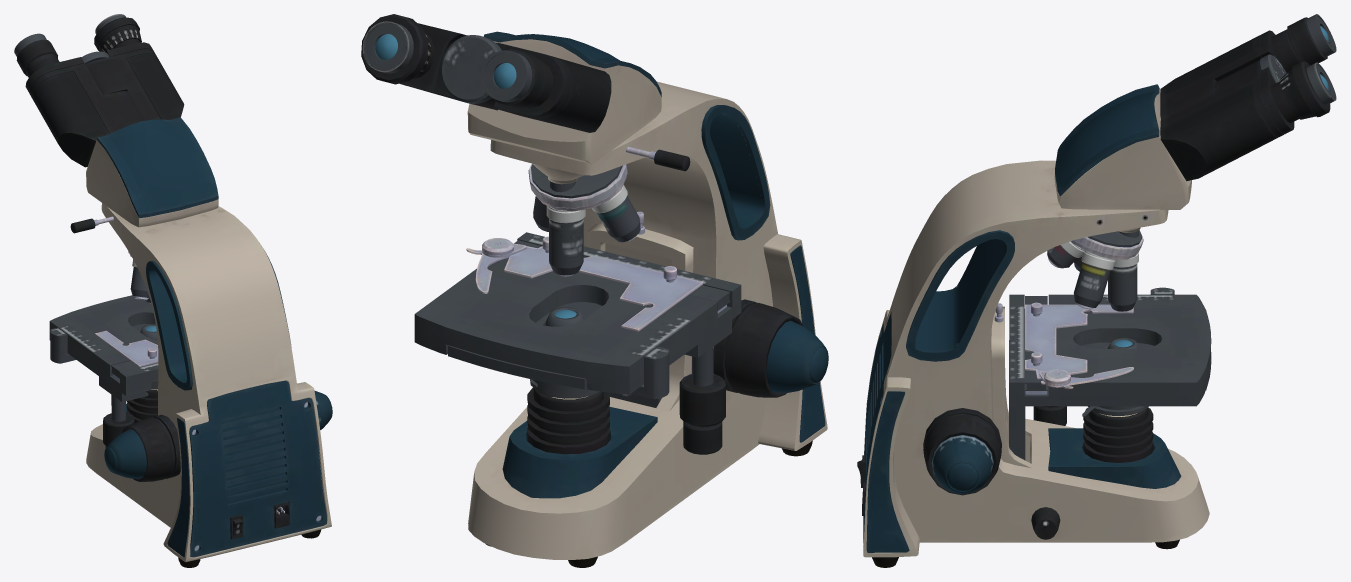
File: micro-transformed.glb
The picture shows the model from 3 angles, left to right: view 1: azimuth 30°, elevation 25°; view 2: azimuth 150°, elevation 25°; view 3: azimuth 270°, elevation 25°; orthographic projection. The views are drawn at different scales.
Parts seen in each view (by area): view 1: MicroscopeBase_LowPoly__0; view 2: MicroscopeBase_LowPoly__0; view 3: MicroscopeBase_LowPoly__0.
Part boxes in pixels (box(x1,y1,x2,y2)): MicroscopeBase_LowPoly__0: box(14, 14, 332, 567); MicroscopeBase_LowPoly__0: box(361, 14, 828, 567); MicroscopeBase_LowPoly__0: box(857, 14, 1336, 567).
Size of the model in its own units: 30.47 by 51.96 by 46.34.
1 material, 1 textured.
